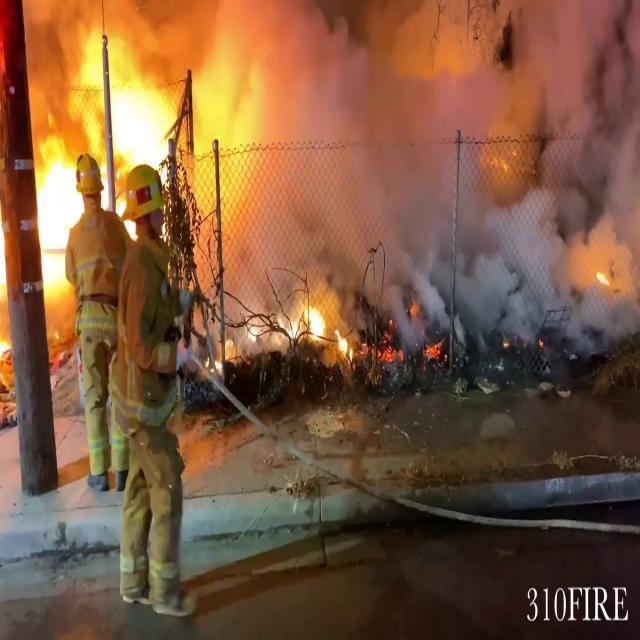Fire: (22, 36, 188, 276), (34, 130, 86, 300), (290, 294, 358, 360)
Smoke: (216, 0, 636, 298)
